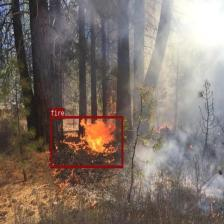fire: (50, 116, 123, 167)
